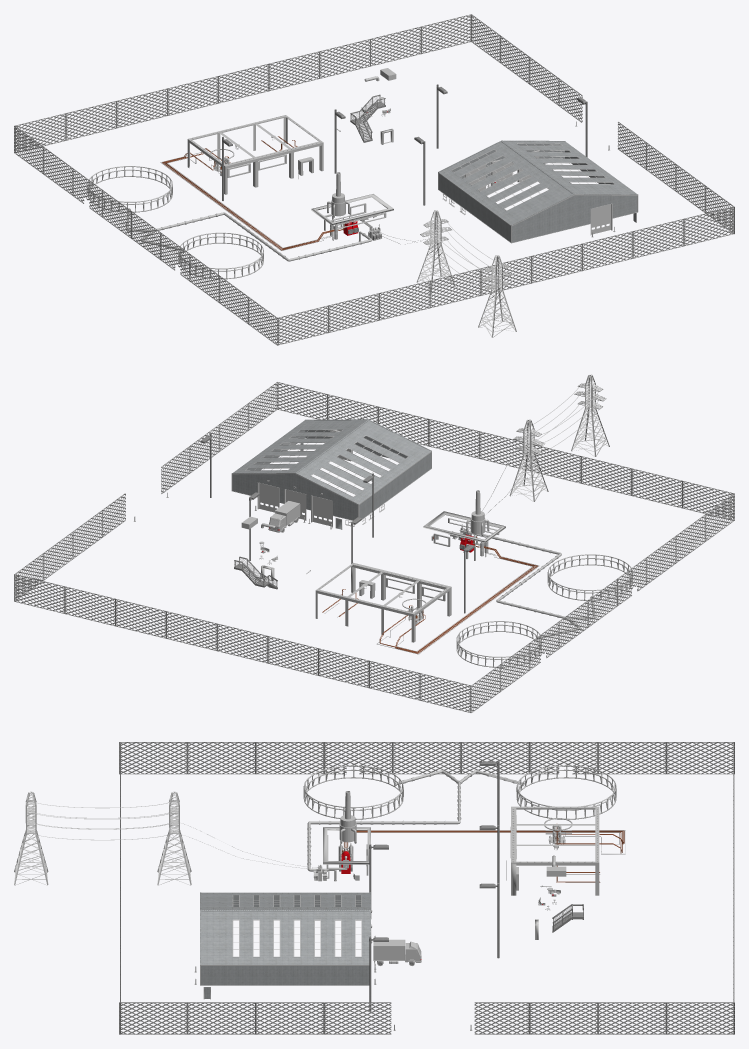
File: material_metalico.fbx
3 renders of one model, top to bottom at view 1: azimuth 30°, elevation 25°; view 2: azimuth 150°, elevation 25°; view 3: azimuth 270°, elevation 25°, orthographic. The views are drawn at different scales.
Parts seen in each view (by area): view 1: metalaluminio, metallaminado, metalaluminioOxi, metalrugoso, metalazul, metalverde, metalclaro, metalcobre; view 2: metalaluminio, metallaminado, metalaluminioOxi, metalazul, metalrugoso, metalverde, metalclaro, metalcobre; view 3: metalaluminio, metallaminado, metalaluminioOxi, metalrugoso, metalazul, metalverde, metalclaro, metalcobre, metalcables.
Part boxes in pixels (x1,y1,x2,y2): metalaluminio: [14, 14, 734, 345]; metallaminado: [438, 140, 638, 242]; metalaluminioOxi: [331, 143, 638, 337]; metalrugoso: [87, 166, 372, 279]; metalazul: [187, 115, 337, 239]; metalverde: [214, 157, 393, 238]; metalclaro: [160, 68, 396, 250]; metalcobre: [162, 136, 344, 250]; metalaluminio: [14, 382, 734, 712]; metallaminado: [232, 419, 431, 529]; metalaluminioOxi: [231, 374, 609, 545]; metalazul: [269, 501, 488, 642]; metalrugoso: [456, 534, 632, 667]; metalverde: [408, 490, 505, 624]; metalclaro: [241, 516, 539, 654]; metalcobre: [322, 536, 537, 653]; metalaluminio: [119, 742, 734, 1034]; metallaminado: [200, 892, 370, 998]; metalaluminioOxi: [14, 791, 421, 999]; metalrugoso: [303, 765, 616, 881]; metalazul: [338, 806, 599, 961]; metalverde: [318, 791, 561, 881]; metalclaro: [326, 822, 625, 939]; metalcobre: [342, 827, 624, 882]; metalcables: [33, 801, 557, 869].
Size of the model in its own units: 53552 by 8835 by 62570.
